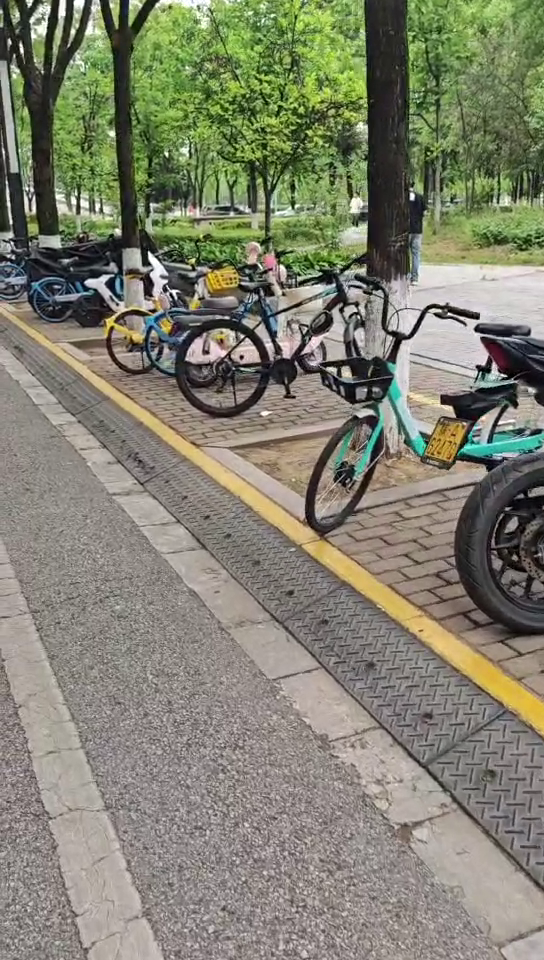others: (177, 255, 388, 414)
shared_bike_haluo: (148, 268, 291, 373), (31, 248, 133, 324)
shared_bike_meituan: (101, 248, 240, 381)
shared_bike_qingcong: (310, 275, 544, 518)
